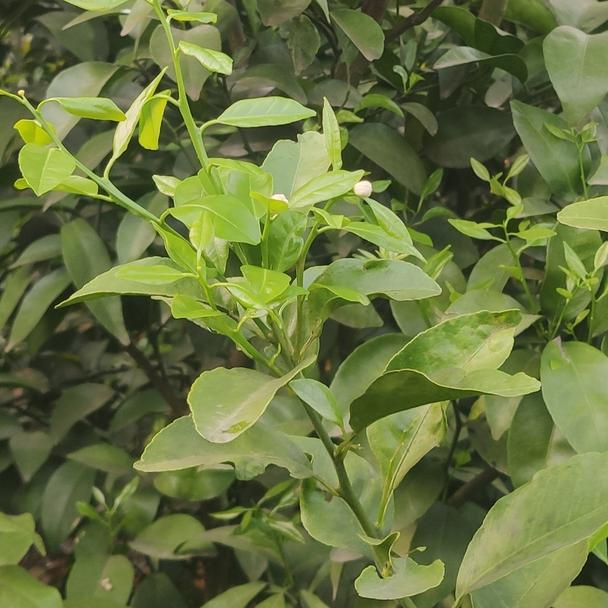shoot: (112, 2, 319, 169), (7, 68, 182, 235), (462, 206, 554, 285)
